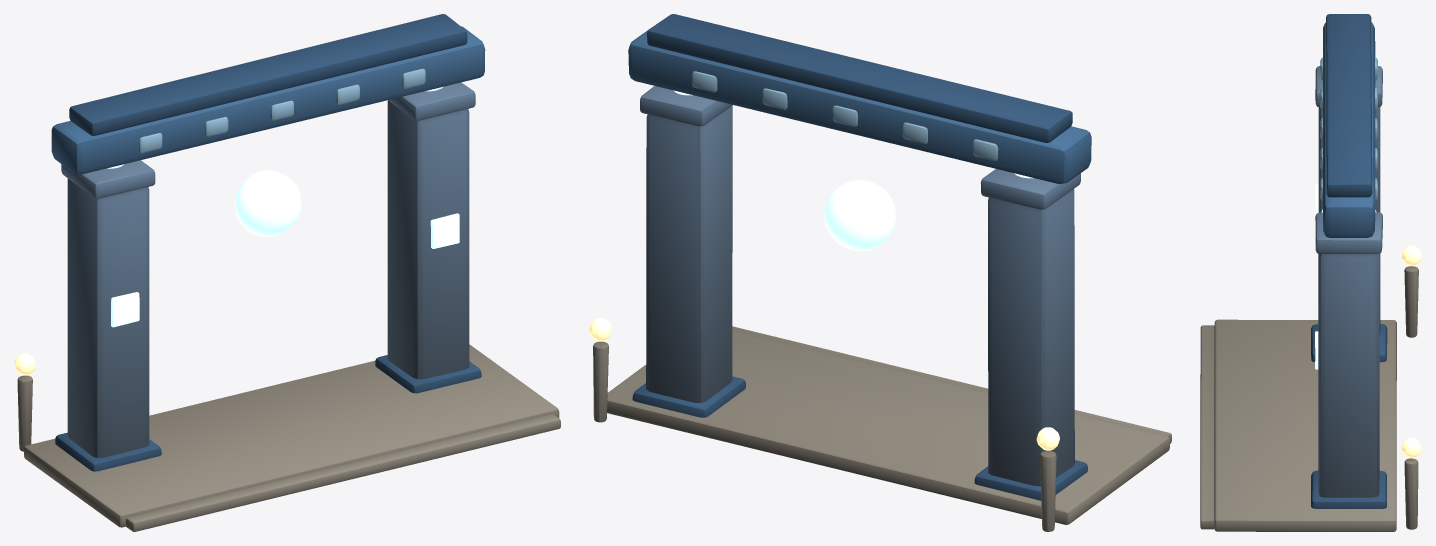
3 renders of one model, left to right at view 1: azimuth 30°, elevation 25°; view 2: azimuth 150°, elevation 25°; view 3: azimuth 270°, elevation 25°, orthographic. The views are drawn at different scales.
Visible parts, largest first — view 1: gate_f0973598; view 2: gate_f0973598; view 3: gate_f0973598.
Part boxes in pixels (<box>): gate_f0973598: <box>14,14,560,531</box>; gate_f0973598: <box>589,14,1171,531</box>; gate_f0973598: <box>1200,14,1421,531</box>.
Size of the model in its own units: 5.49 by 4.25 by 2.55.
